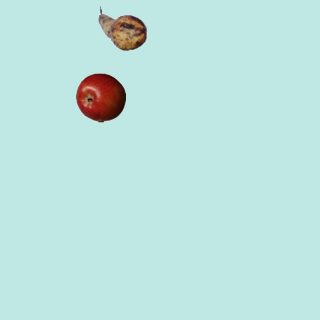Apple Braeburn: (75, 72, 125, 122)
Pear Abate: (97, 3, 147, 53)
